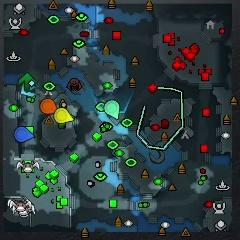p1: (13, 126, 35, 142)
p2: (104, 100, 120, 120)
p4: (54, 108, 74, 123)
p5: (40, 98, 56, 114)
x3: (21, 83, 38, 97)
x4: (18, 73, 36, 91)
